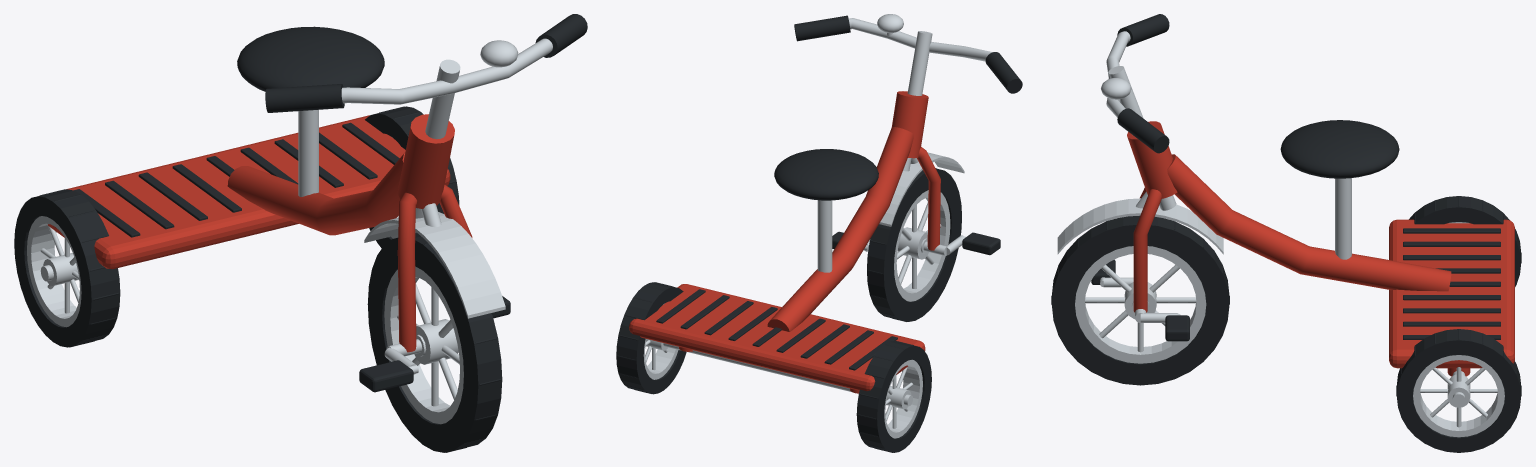
File: A-NEW-20261026-PEDAL-TRICYCLE-001_LOD1_R1.glb
3 views of the same model, side by side, from view 1: azimuth 30°, elevation 25°; view 2: azimuth 150°, elevation 25°; view 3: azimuth 270°, elevation 25° (orthographic). The views are drawn at different scales.
Parts seen in each view (by area): view 1: rear grooved standing platform, front tire, rear -1 tire, rounded saddle, curved main frame, curved front mudguard, steering head, curved handlebar, front rim, front fork -1, rear -1 rim, ribbed hand grip -1 (+15 smaller); view 2: rear grooved standing platform, curved main frame, front tire, rounded saddle, rear -1 tire, rear 1 tire, front rim, steering head, curved handlebar, rear -1 rim, front fork -1, curved front mudguard (+9 smaller); view 3: front tire, rear grooved standing platform, curved main frame, rear 1 tire, rounded saddle, front rim, curved front mudguard, rear 1 rim, rear -1 tire, front fork 1, steering head, saddle seatpost (+14 smaller).
Part boxes in pixels (bbox=[...]): rear grooved standing platform: bbox=[48, 115, 450, 269]; front tire: bbox=[367, 233, 502, 452]; rear -1 tire: bbox=[14, 189, 120, 347]; rounded saddle: bbox=[237, 26, 384, 91]; curved main frame: bbox=[227, 152, 405, 235]; curved front mudguard: bbox=[364, 212, 505, 318]; steering head: bbox=[397, 114, 454, 208]; curved handlebar: bbox=[341, 38, 552, 104]; front rim: bbox=[384, 266, 463, 424]; front fork -1: bbox=[397, 192, 416, 352]; rear -1 rim: bbox=[27, 216, 81, 327]; ribbed hand grip -1: bbox=[265, 84, 344, 112]; rear grooved standing platform: bbox=[629, 284, 925, 391]; curved main frame: bbox=[767, 127, 913, 331]; front tire: bbox=[867, 168, 961, 321]; rounded saddle: bbox=[774, 149, 878, 200]; rear -1 tire: bbox=[856, 341, 931, 452]; rear 1 tire: bbox=[616, 282, 686, 394]; front rim: bbox=[894, 190, 950, 301]; steering head: bbox=[891, 91, 928, 158]; curved handlebar: bbox=[848, 18, 992, 61]; rear -1 rim: bbox=[884, 359, 922, 438]; front fork -1: bbox=[917, 147, 940, 250]; curved front mudguard: bbox=[879, 152, 964, 226]; front tire: bbox=[1051, 215, 1229, 385]; rear grooved standing platform: bbox=[1389, 219, 1514, 368]; curved main frame: bbox=[1167, 154, 1451, 291]; rear 1 tire: bbox=[1396, 329, 1521, 452]; rounded saddle: bbox=[1280, 120, 1399, 178]; front rim: bbox=[1075, 246, 1206, 363]; curved front mudguard: bbox=[1057, 198, 1223, 254]; rear 1 rim: bbox=[1413, 355, 1504, 437]; rear -1 tire: bbox=[1409, 196, 1521, 286]; front fork 1: bbox=[1133, 189, 1161, 312]; steering head: bbox=[1127, 121, 1177, 198]; saddle seatpost: bbox=[1335, 178, 1351, 259].
Size of the model in its own units: 0.51 by 0.5053 by 0.6719.
